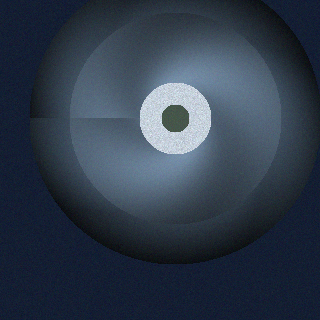cyclone_body: (64, 7, 286, 229)
cyclone_eye: (160, 103, 190, 133)
